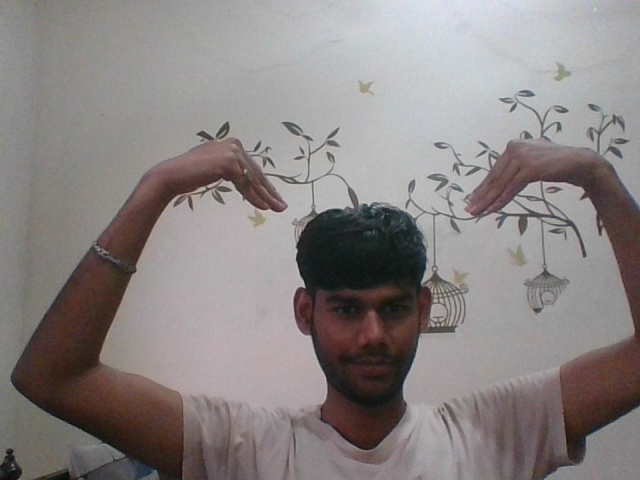I am Utkarsh: (160, 89, 578, 293)
